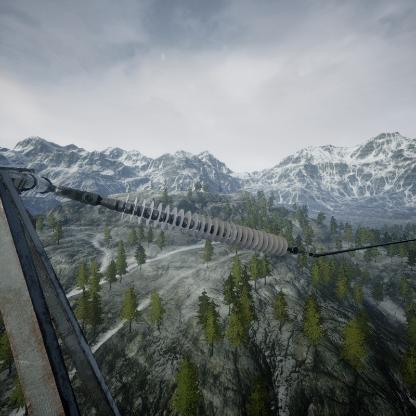insulator: (101, 186, 293, 258)
